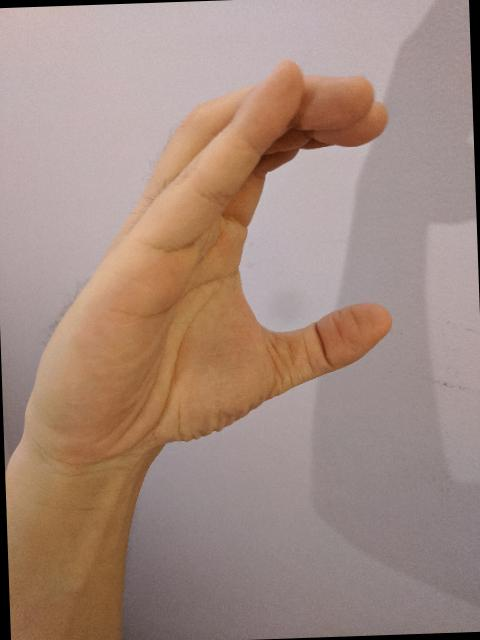C: (5, 54, 404, 470)
